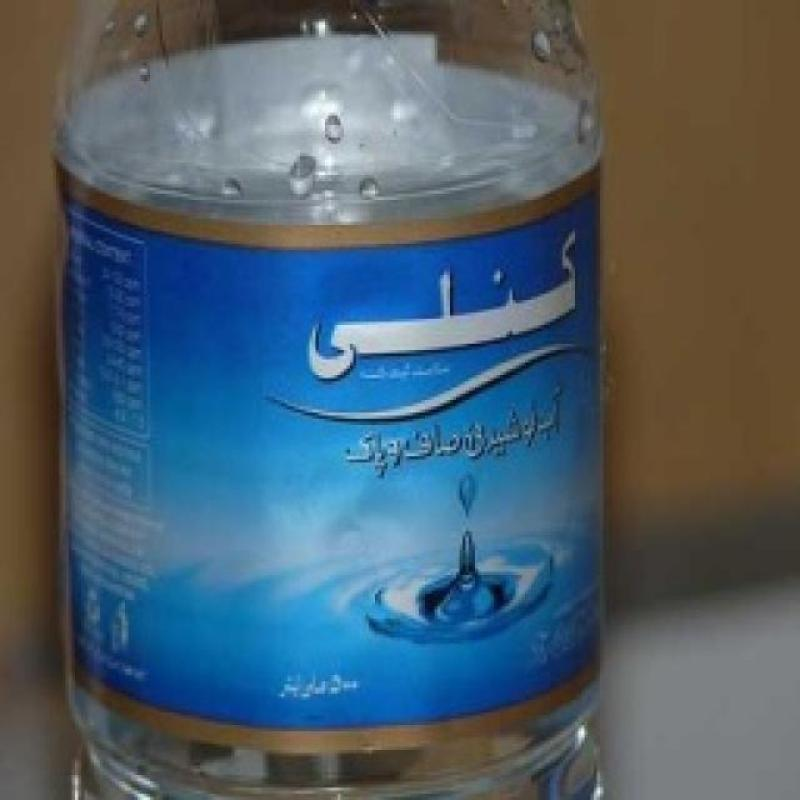botella: (50, 0, 606, 800)
